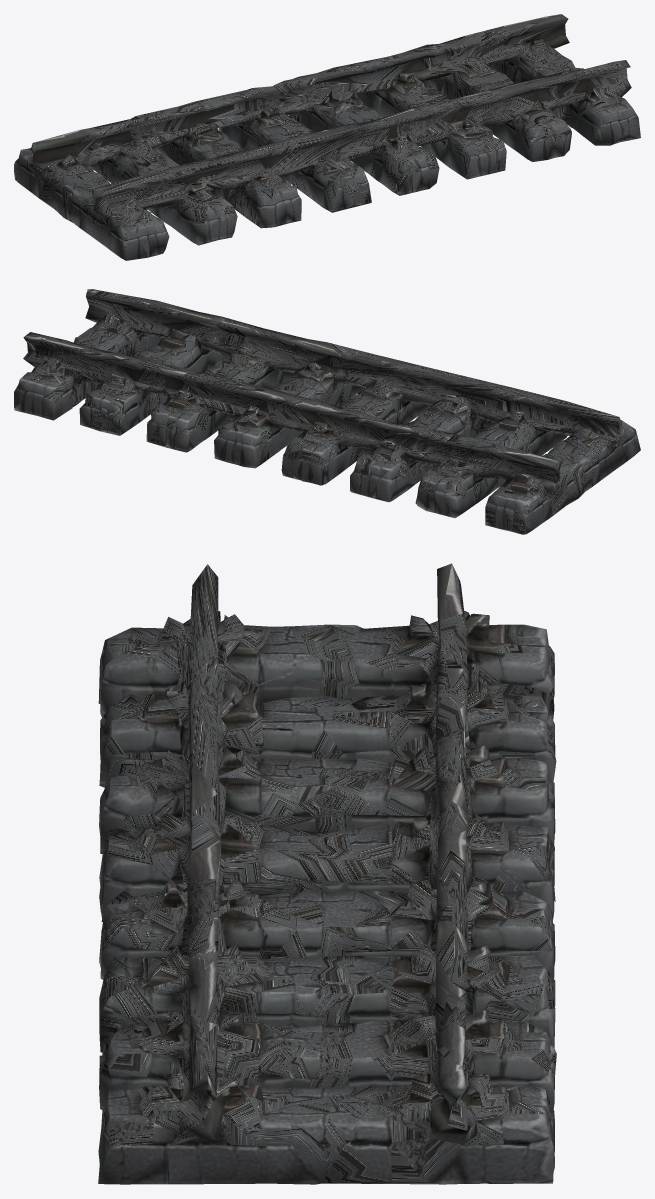
File: railway_track_01.glb
The picture shows the model from 3 angles, top to bottom: view 1: azimuth 30°, elevation 25°; view 2: azimuth 150°, elevation 25°; view 3: azimuth 270°, elevation 25°; orthographic projection. The views are drawn at different scales.
Parts seen in each view (by area): view 1: tripo_node_4fff3678-8c6b-484d-ae26-eb4743590326; view 2: tripo_node_4fff3678-8c6b-484d-ae26-eb4743590326; view 3: tripo_node_4fff3678-8c6b-484d-ae26-eb4743590326.
Boxes of the visible parts, x1,y1,x2,y2 form: tripo_node_4fff3678-8c6b-484d-ae26-eb4743590326: [14, 14, 640, 260]; tripo_node_4fff3678-8c6b-484d-ae26-eb4743590326: [14, 289, 640, 534]; tripo_node_4fff3678-8c6b-484d-ae26-eb4743590326: [98, 563, 556, 1184].
Size of the model in its own units: 0.9787 by 0.1011 by 0.3654.
1 material, 1 textured.
